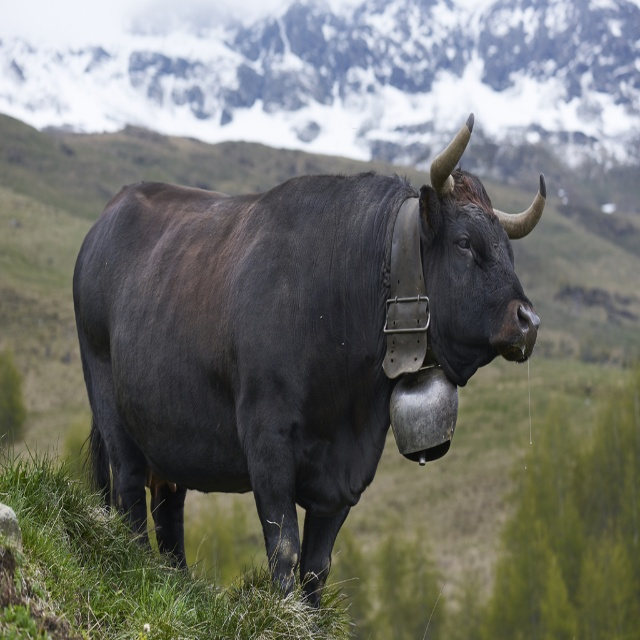Bull: (72, 113, 547, 608)
